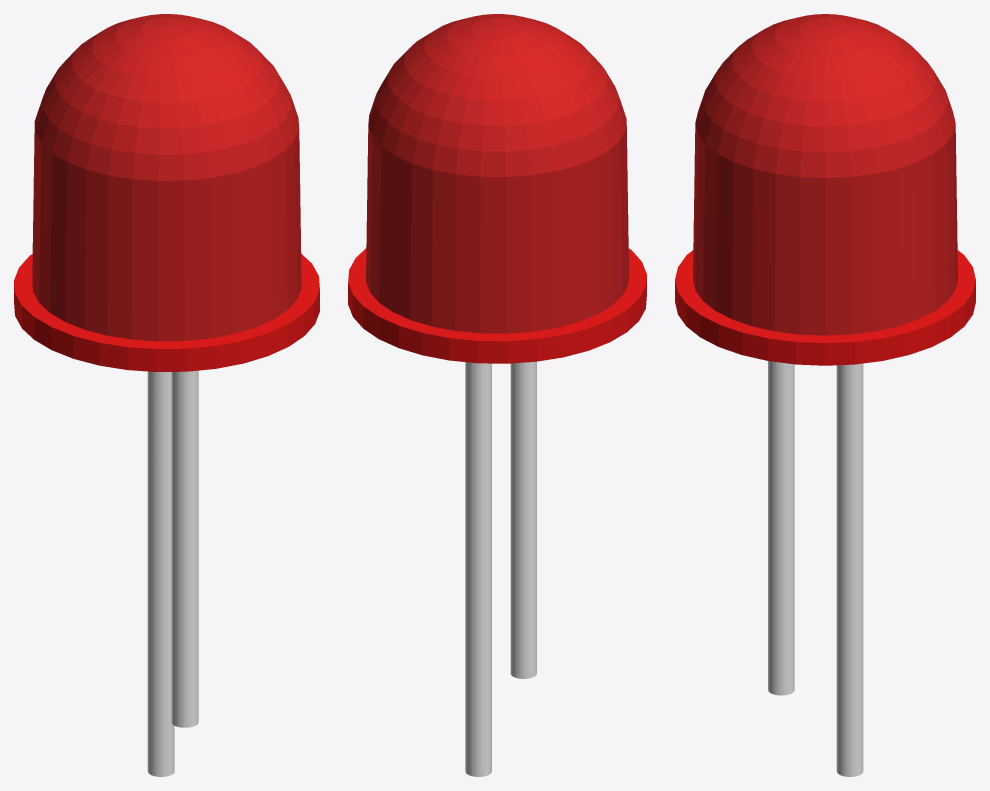
Rendered from LED.fbx.
3 renders of one model, left to right at view 1: azimuth 30°, elevation 25°; view 2: azimuth 150°, elevation 25°; view 3: azimuth 270°, elevation 25°, orthographic. The views are drawn at different scales.
Visible parts, largest first — view 1: Sphere, Cylinder, Cylinder_002, Cylinder_001; view 2: Sphere, Cylinder_002, Cylinder, Cylinder_001; view 3: Sphere, Cylinder_002, Cylinder, Cylinder_001.
Part boxes in pixels (<box>): Sphere: <box>32,14,301,341</box>; Cylinder: <box>14,254,319,371</box>; Cylinder_002: <box>147,371,174,776</box>; Cylinder_001: <box>171,370,198,727</box>; Sphere: <box>366,14,628,333</box>; Cylinder_002: <box>465,362,491,776</box>; Cylinder: <box>348,248,646,363</box>; Cylinder_001: <box>510,361,536,678</box>; Sphere: <box>693,14,957,335</box>; Cylinder_002: <box>836,363,863,776</box>; Cylinder: <box>675,250,975,365</box>; Cylinder_001: <box>768,361,794,695</box>.
Size of the model in its own units: 227 by 617 by 227.
